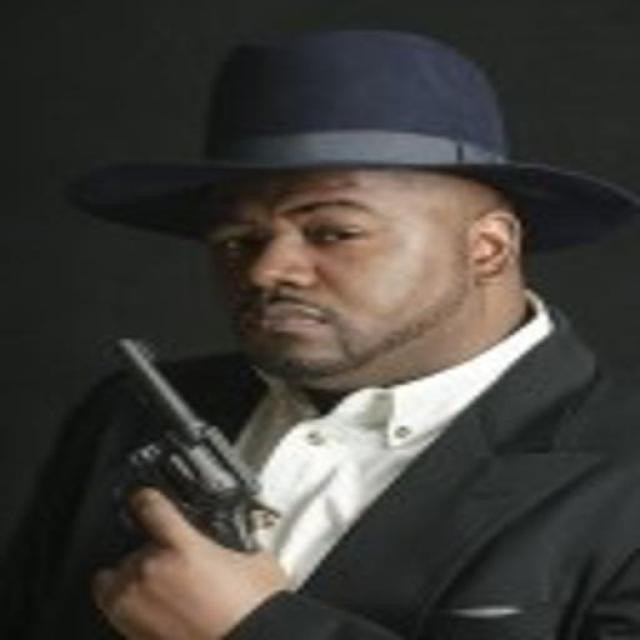pistol: (80, 324, 291, 568)
